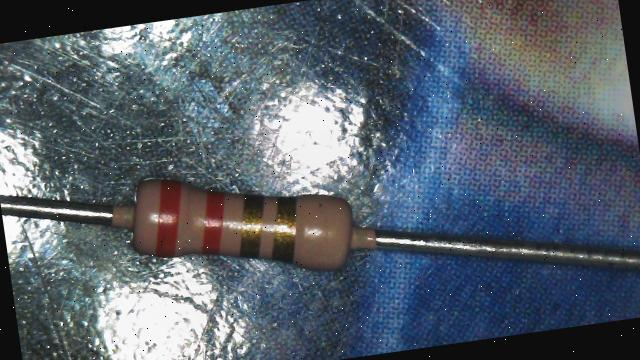gold: (267, 195, 304, 262), (234, 192, 270, 259)
orange: (146, 176, 189, 258), (197, 189, 229, 255)
resistor: (112, 158, 382, 289)
